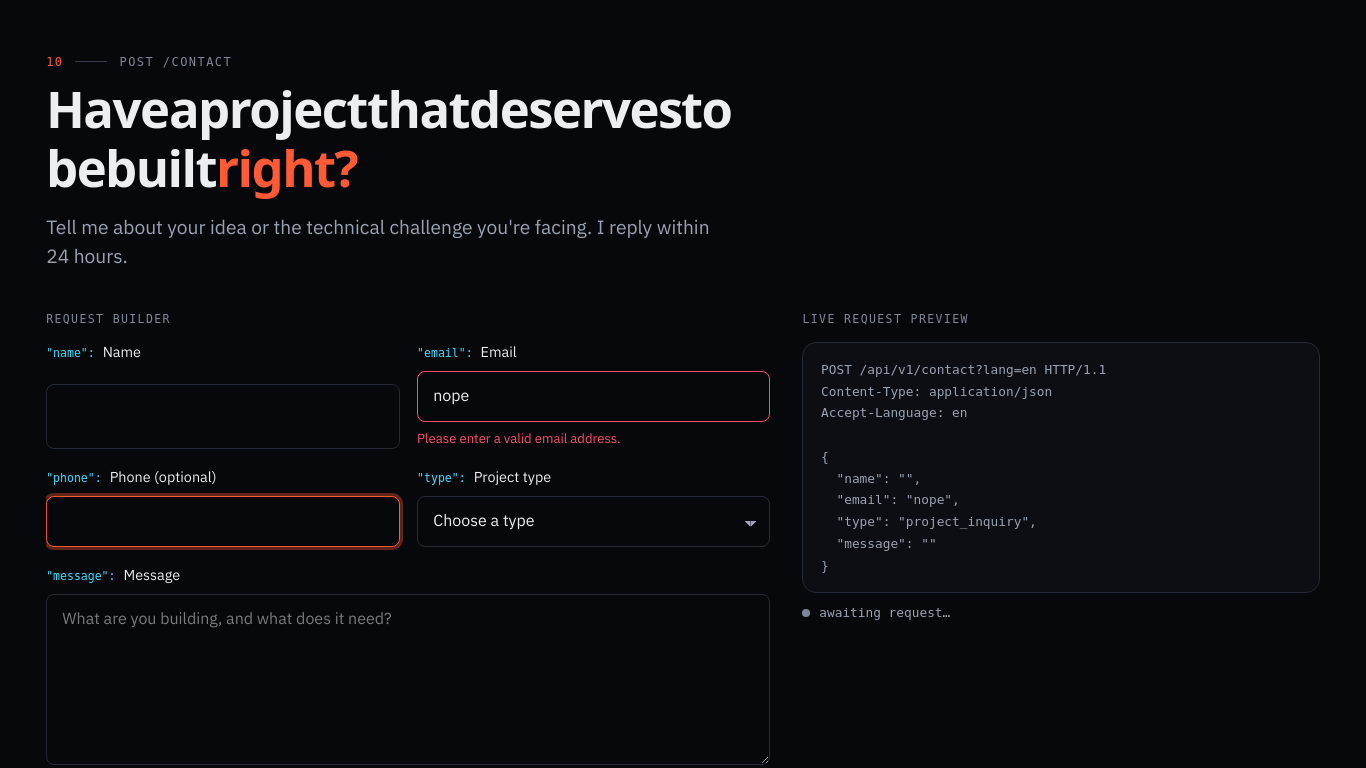
Test: Contact request builder › validates live, previews the request and answers 201 with an honest mock notice
Earlier steps of the test are not shown.
Check: the text "Please enter a valid email address." is shown, box x1=417 y1=429 x2=621 y2=448
Clear the field labelled "\"email\": Email" at (594, 396), box x1=417 y1=371 x2=770 y2=422
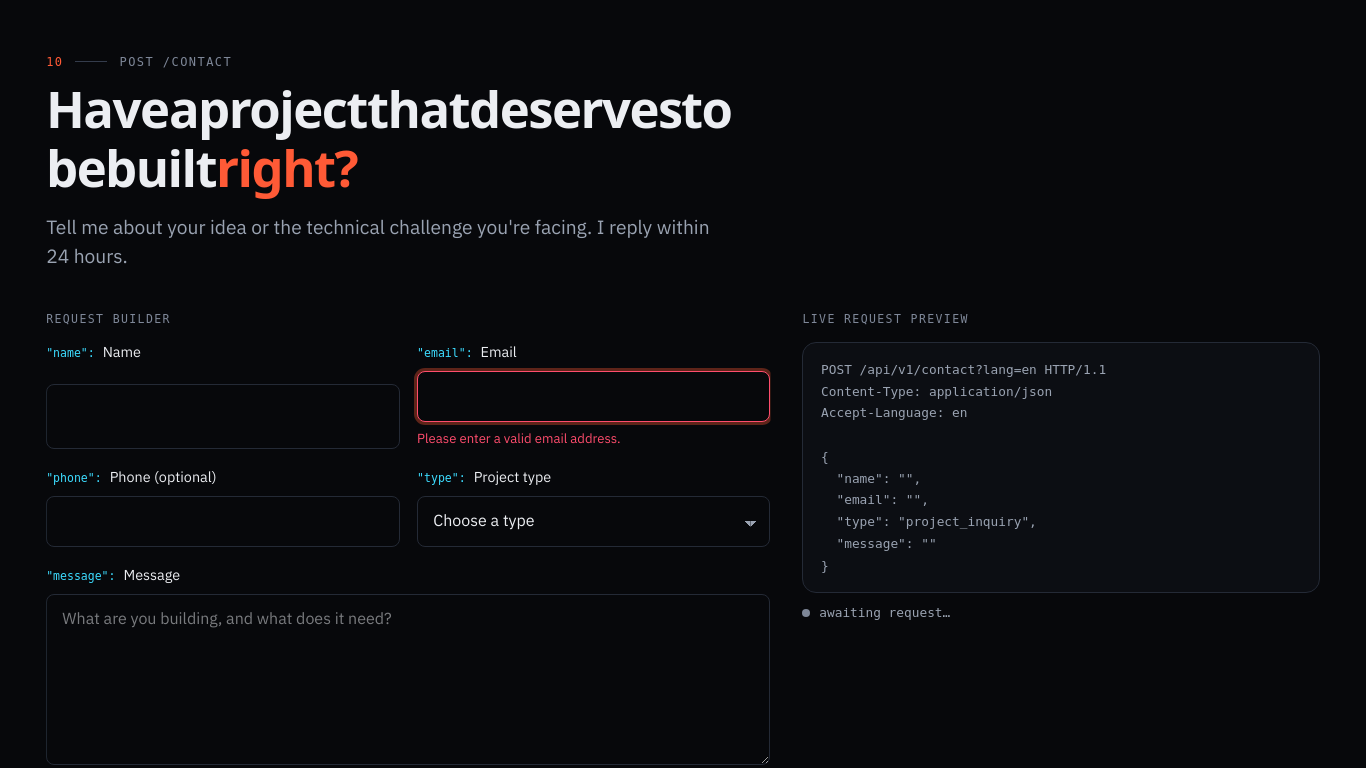
Type "Sample Person" into the field labelled "\"name\": Name" at (223, 417), box x1=46 y1=384 x2=400 y2=449
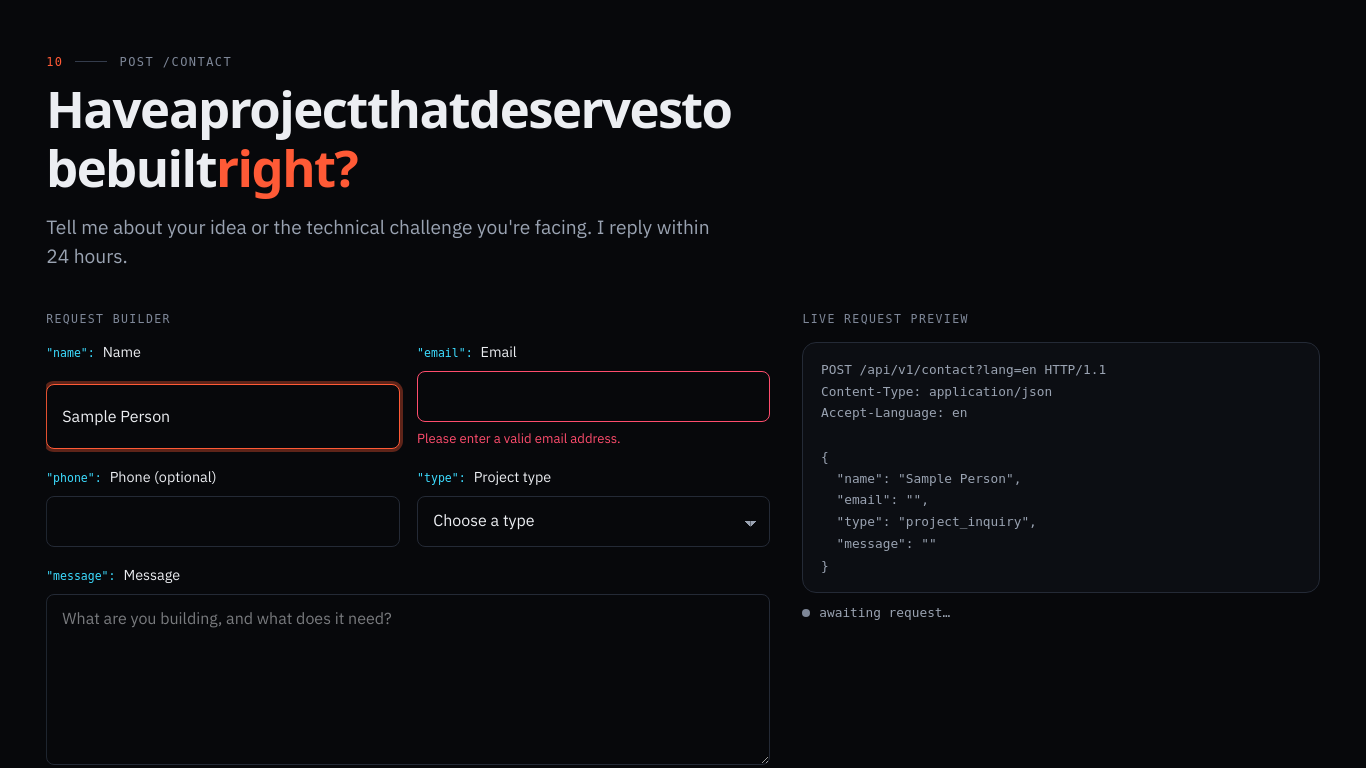
Type "person@example.com" into the field labelled "\"email\": Email" at (594, 396), box x1=417 y1=371 x2=770 y2=422
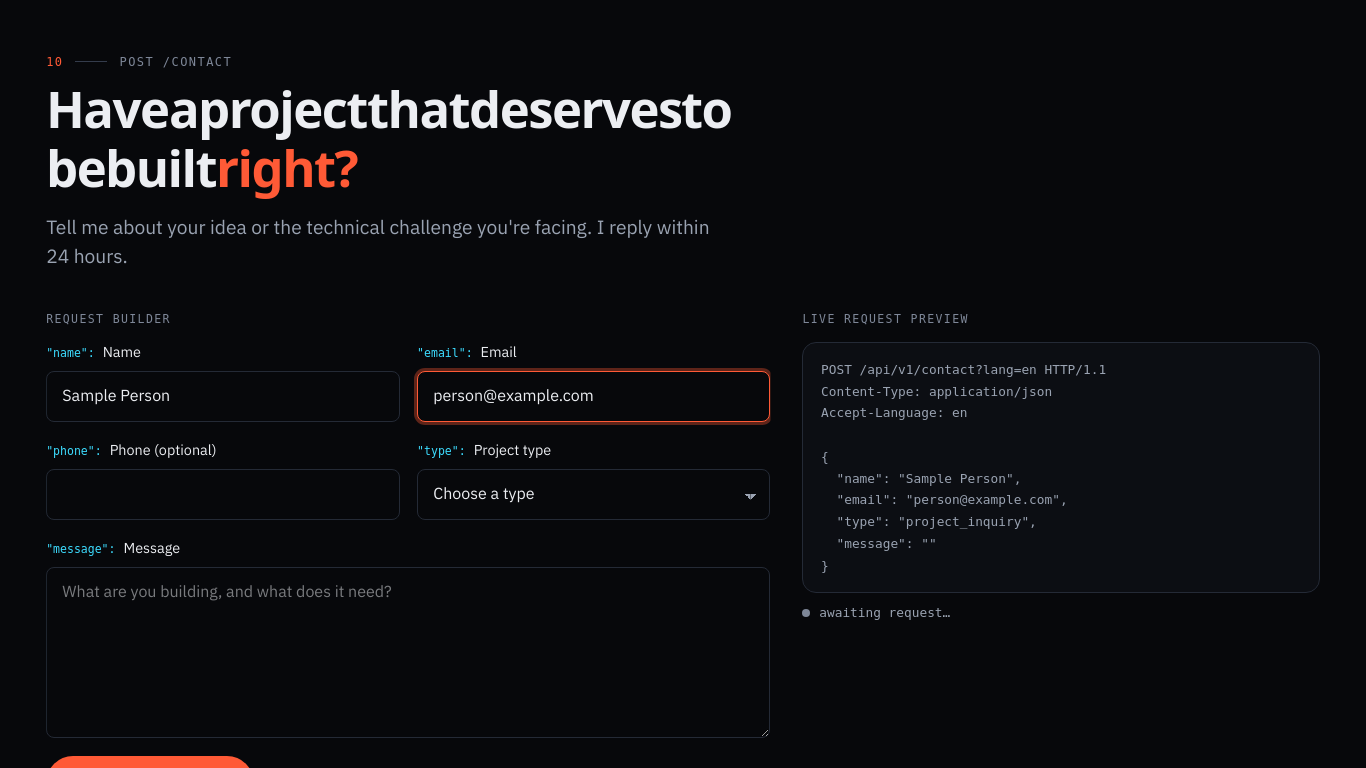
Select "API design & development" in the dropdown labelled "\"type\": Project type" at (594, 494), box x1=417 y1=469 x2=770 y2=520
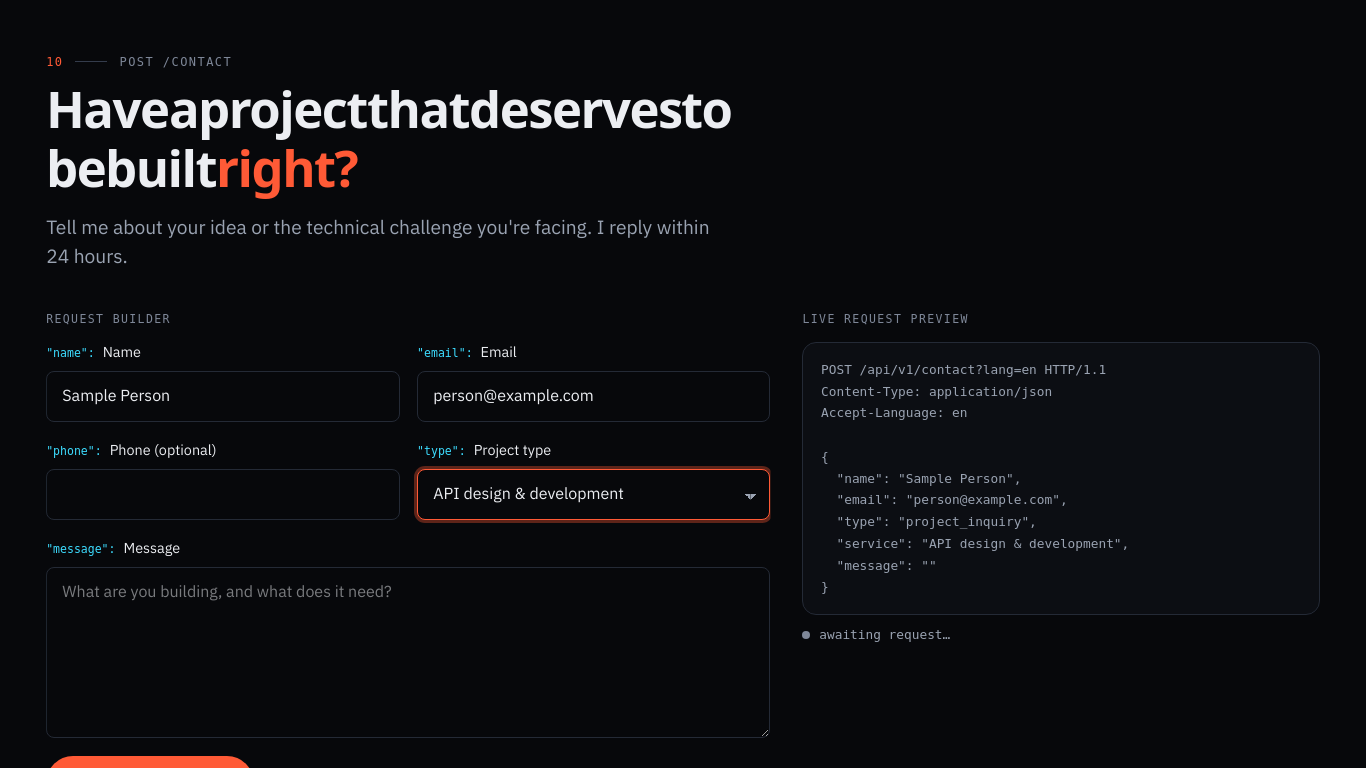
Type "We need a documented REST API." into the text box labelled "\"message\": Message" at (408, 652), box x1=46 y1=567 x2=770 y2=738
(page scrolled)
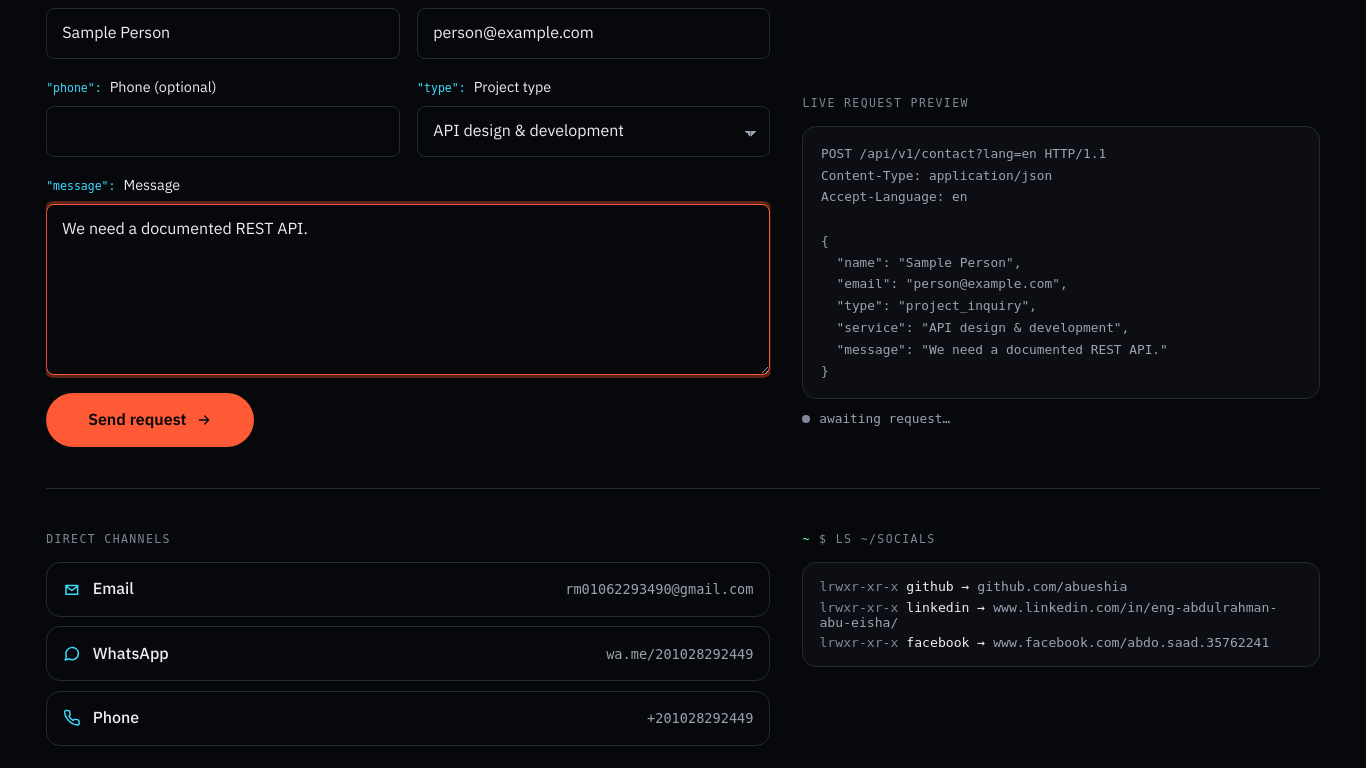
Check: the text "\"name\": \"Sample Person\"" is shown, box x1=821 y1=146 x2=1168 y2=378
Click the button "Send request" at (150, 420), box x1=46 y1=393 x2=254 y2=447
(page scrolled)
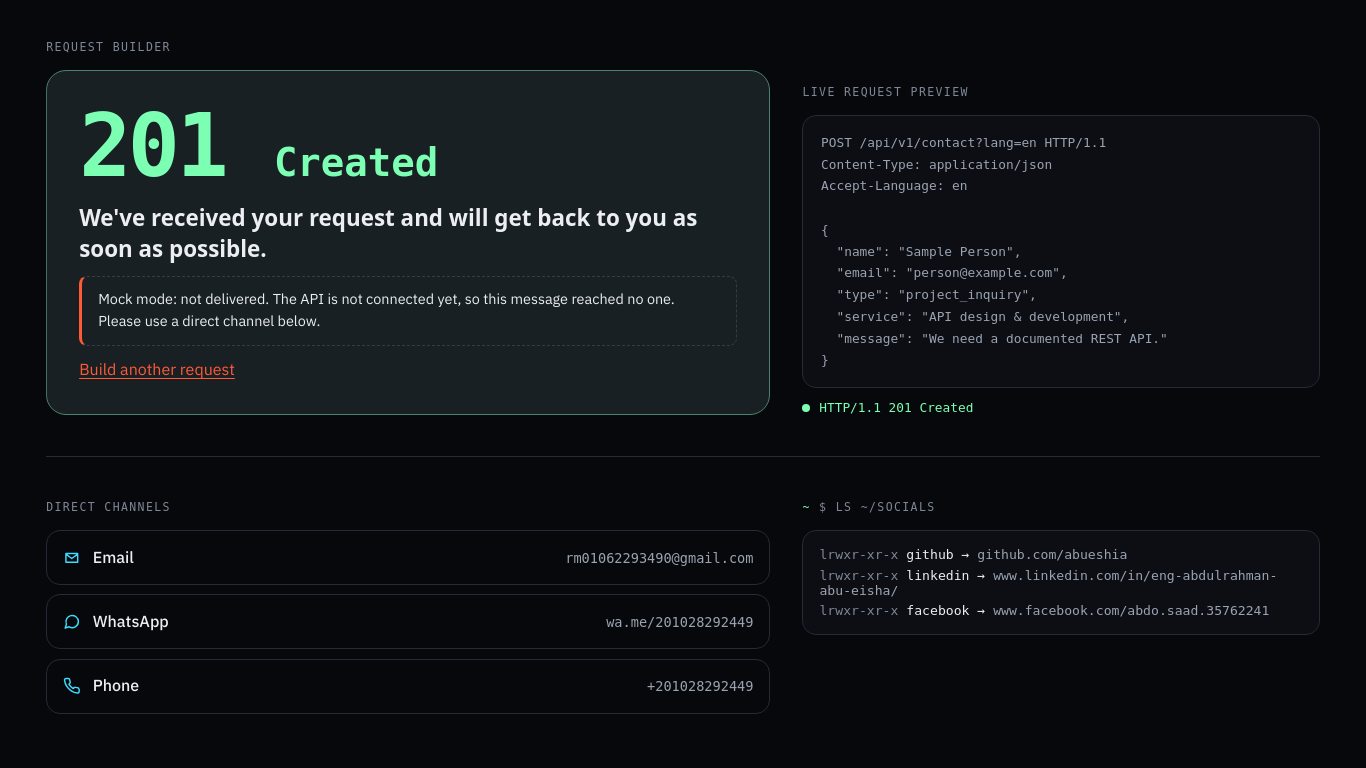
Check: the text "Mock mode: not delivered" is shown, box x1=98 y1=288 x2=675 y2=332
Check: the text "HTTP/1.1 201 Created" is shown, box x1=819 y1=400 x2=973 y2=415
